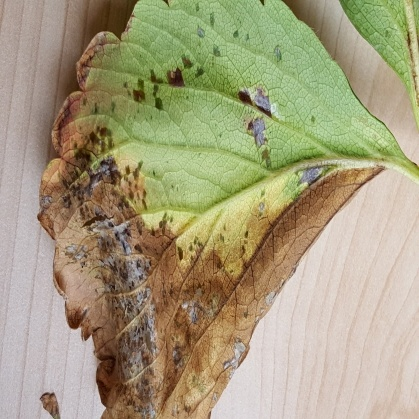Angular_LS: (21, 0, 408, 418)
